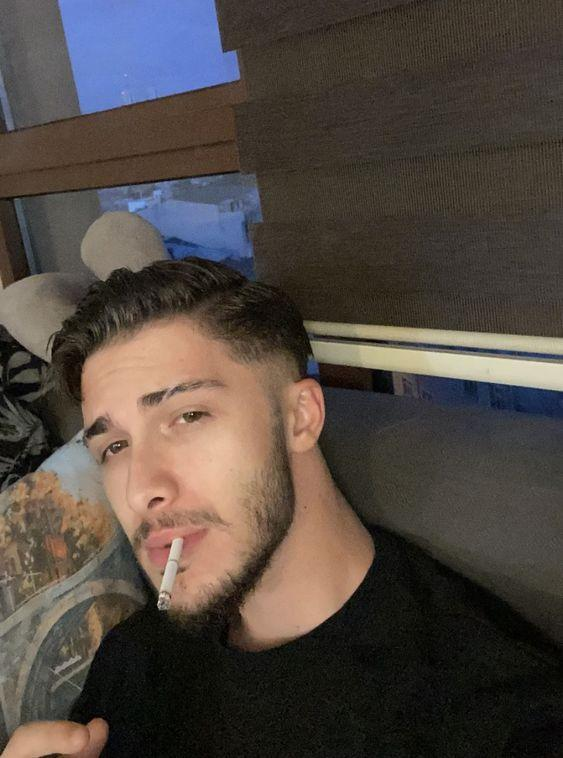cigarette: (157, 537, 185, 611)
